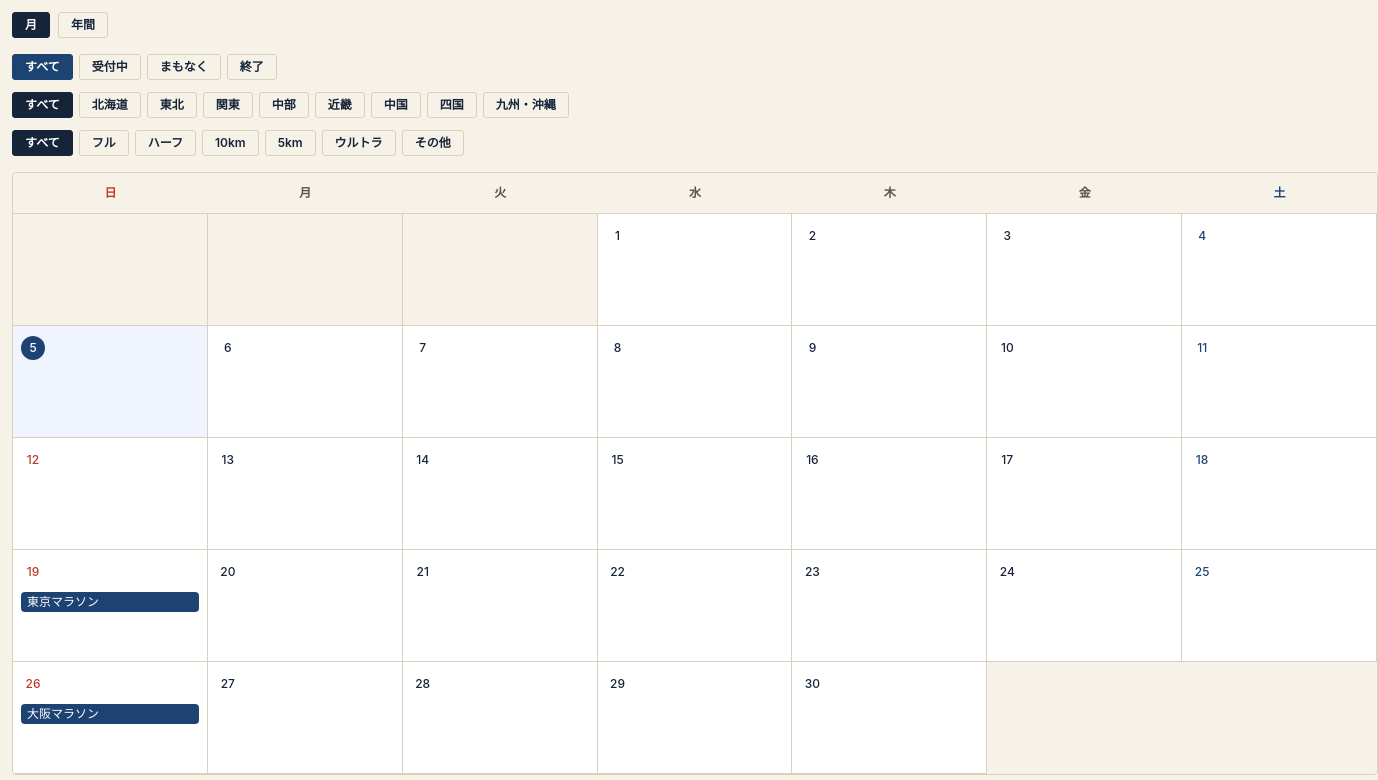
Test case: CalendarView › REGIONフィルターで対象外の大会が非表示になる
# 関東フィルターをクリック
Click the button "関東".
click(228, 105)  # box [203,92,253,118]
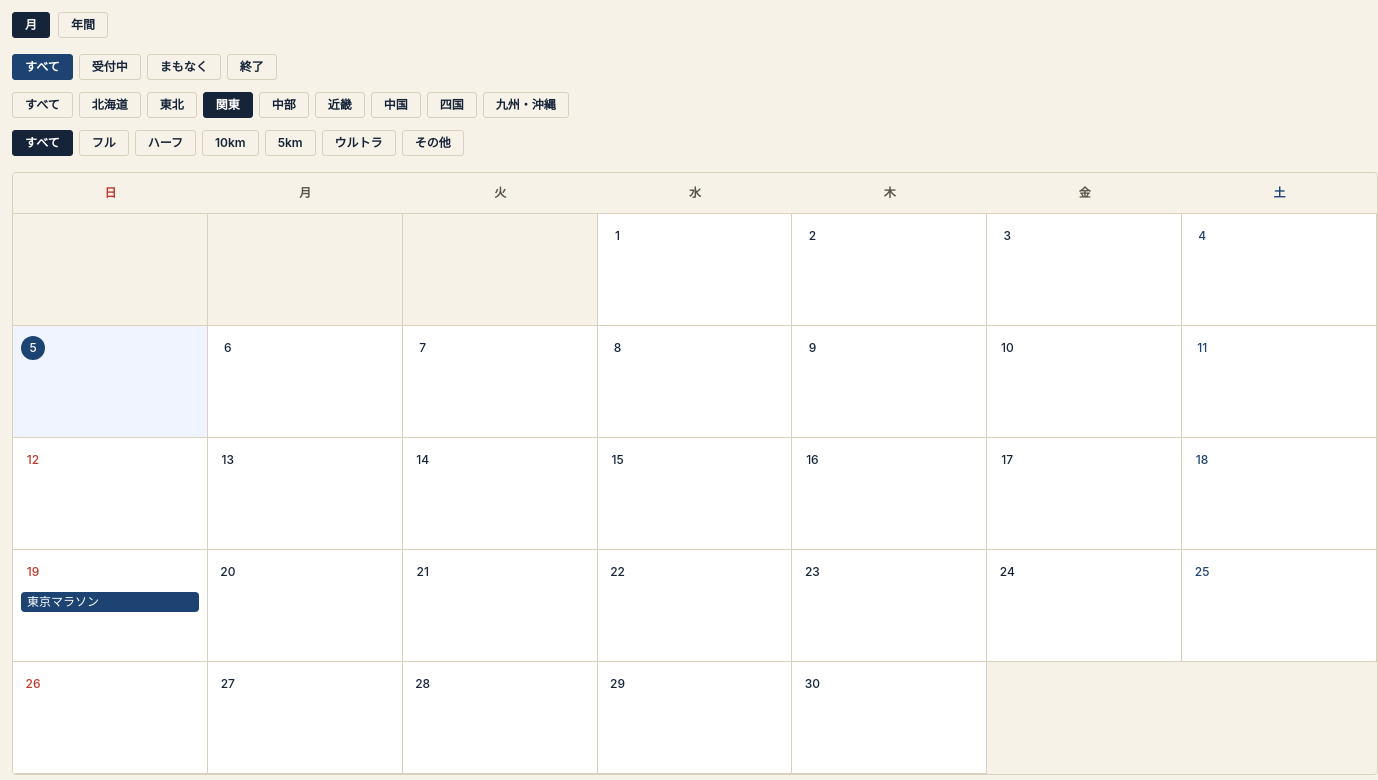
expect the link "東京マラソン" is shown: met, box [21,592,199,612]
expect the link "大阪マラソン" is gone: met
